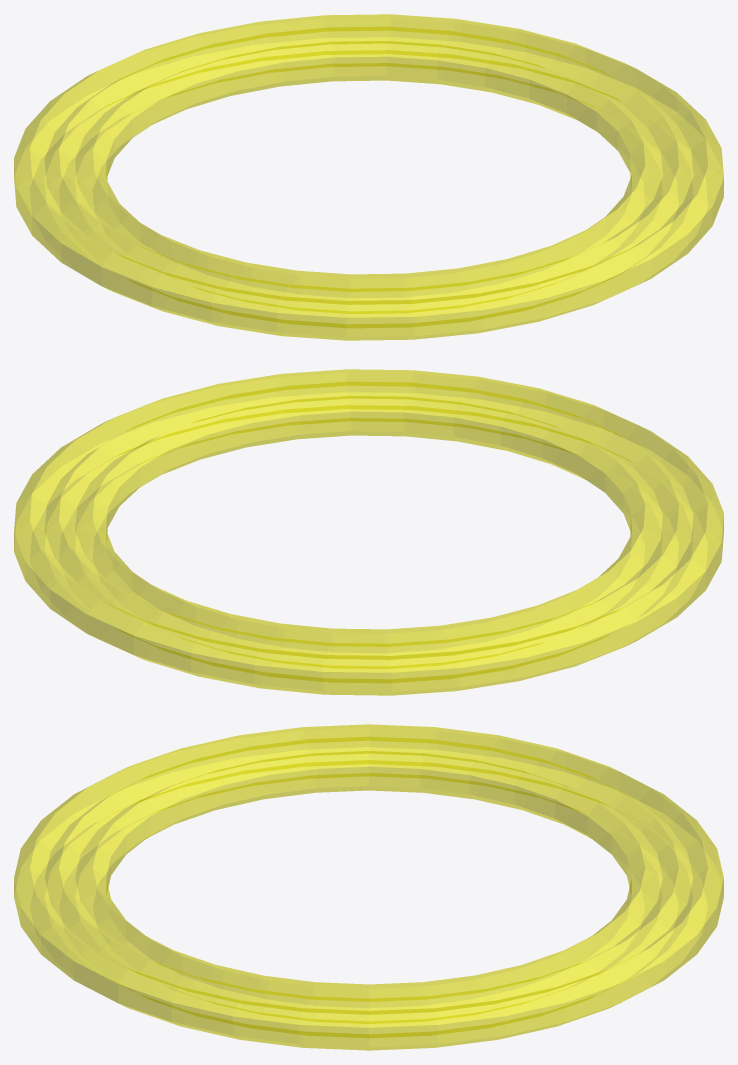
File: HolyBombExplosion.fbx
The picture shows the model from 3 angles, top to bottom: view 1: azimuth 30°, elevation 25°; view 2: azimuth 150°, elevation 25°; view 3: azimuth 270°, elevation 25°; orthographic projection.
Parts seen in each view (by area): view 1: Cylinder; view 2: Cylinder; view 3: Cylinder.
Part boxes in pixels (bbox=[...]): Cylinder: bbox=[14, 14, 723, 340]; Cylinder: bbox=[14, 369, 723, 695]; Cylinder: bbox=[14, 724, 723, 1050].
Bounding box in the file's own units: 218 × 13.44 × 218.
